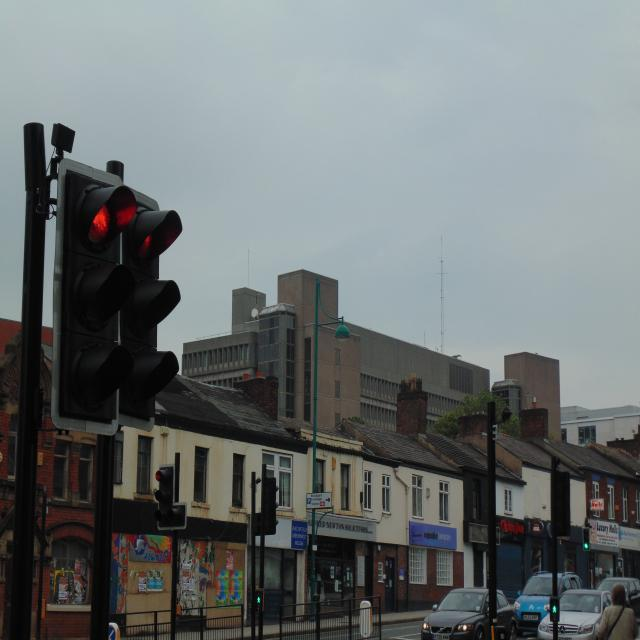traffic light: (62, 169, 141, 423), (119, 201, 183, 419), (154, 466, 185, 527)
